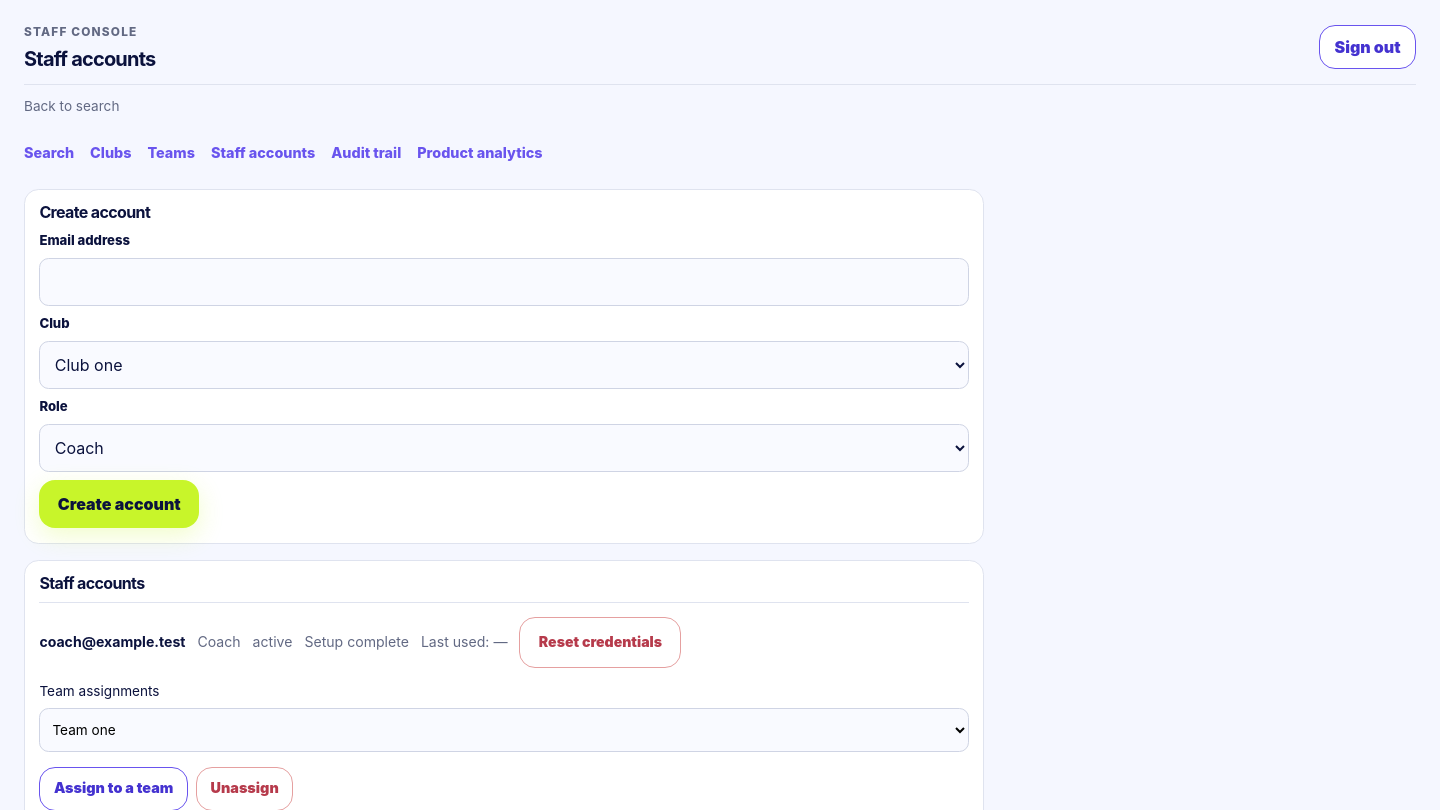
Test: staff account step-up intent › reauthenticates before creating staff and replays the original email, club, and role
The width and height of the screenshot is (1440, 810).
Type "new@example.test" into the field labelled "Email address" at [504, 282], box [39,258,969,306]
Select "Club two" in the dropdown labelled "Club" at [504, 365], box [39,341,969,389]
Select "Club manager" in the dropdown labelled "Role" at [504, 448], box [39,424,969,472]
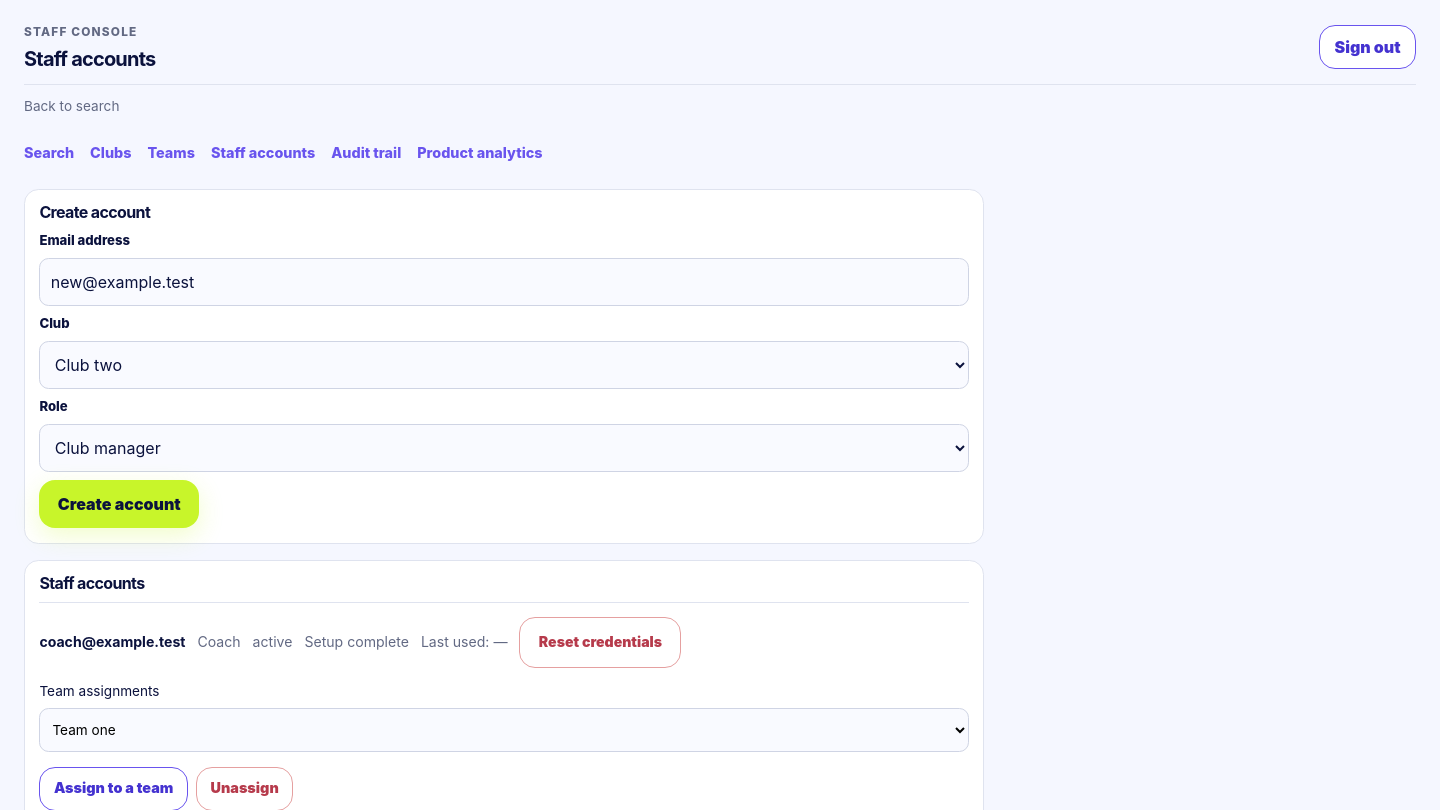
Submit the form from the button "Create account", box [39,480,199,528]
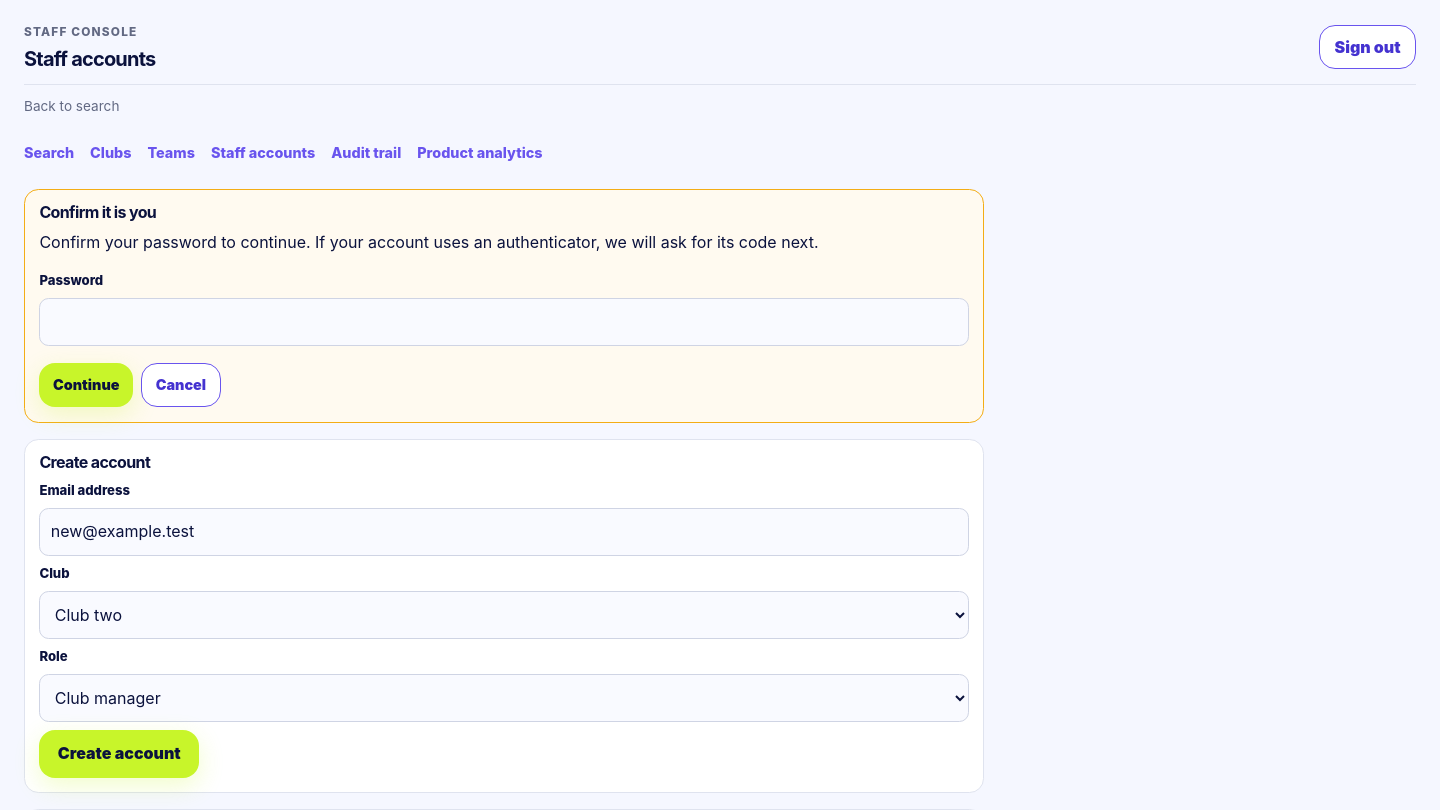
expect the heading "Confirm it is you" is shown: met, box [39,202,156,222]
Type "local-test-password" into the password field labelled "Password" at [504, 322], box [39,298,969,346]
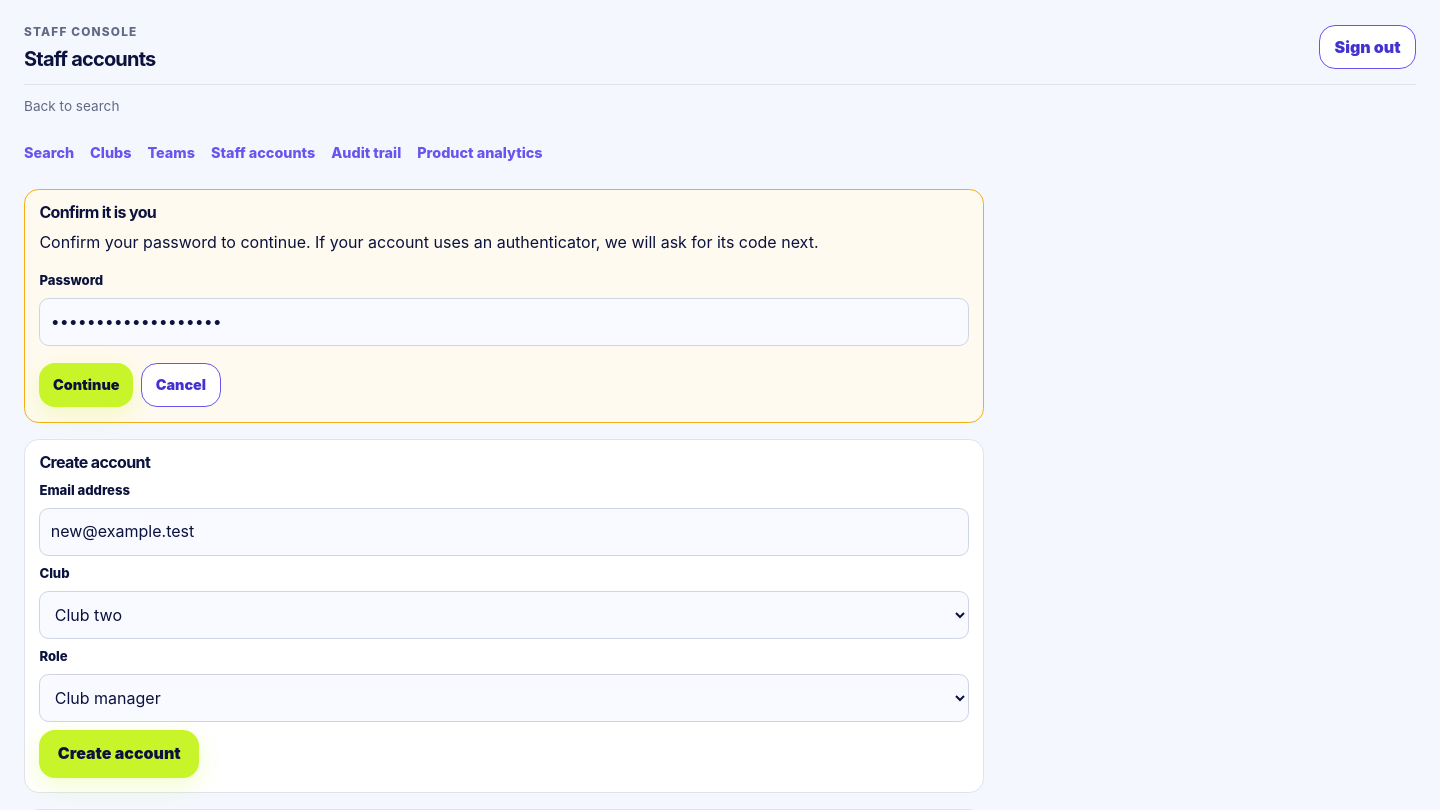
Submit the form from the button "Continue", box [39,363,133,407]
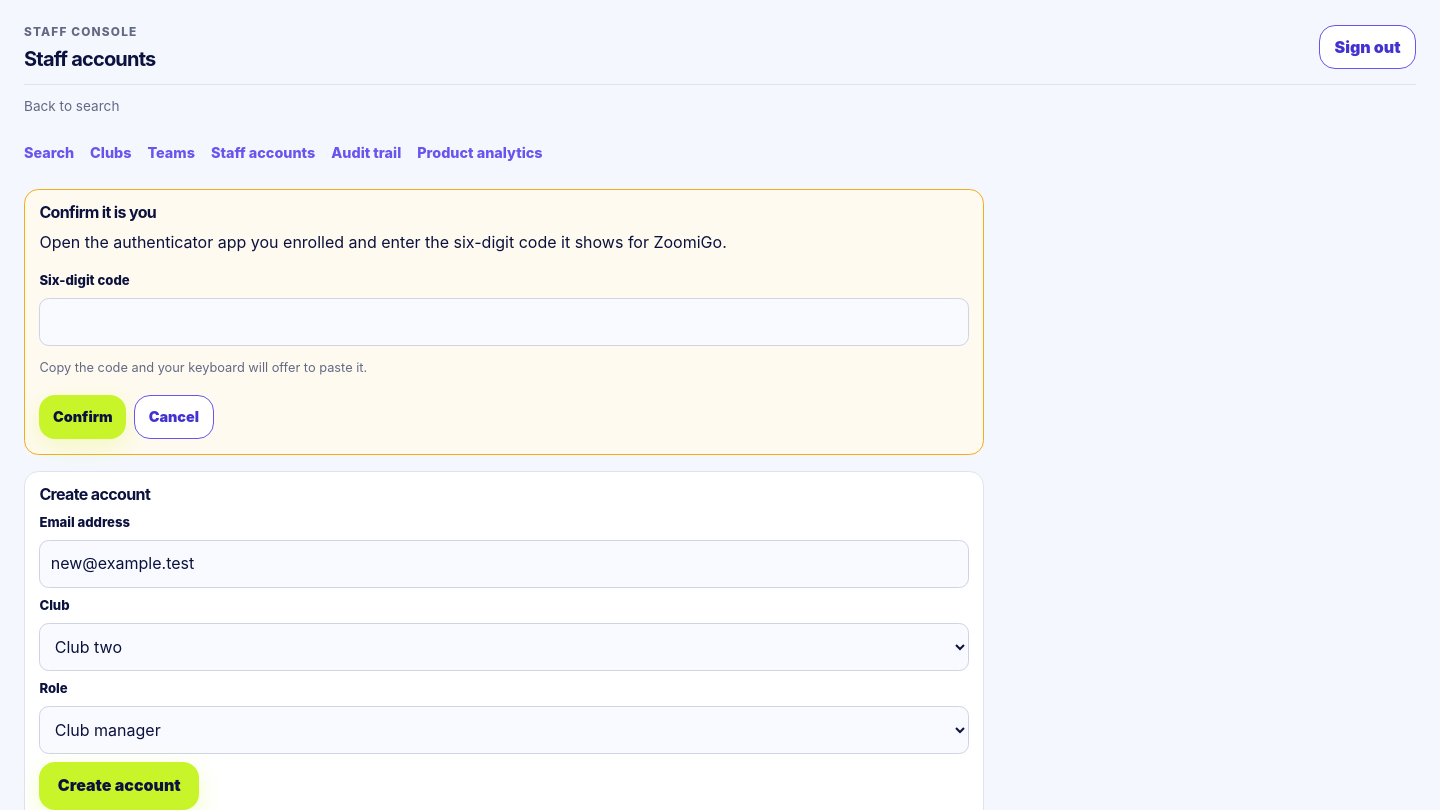
Type "123456" into the field labelled "Six-digit code" at [504, 322], box [39,298,969,346]
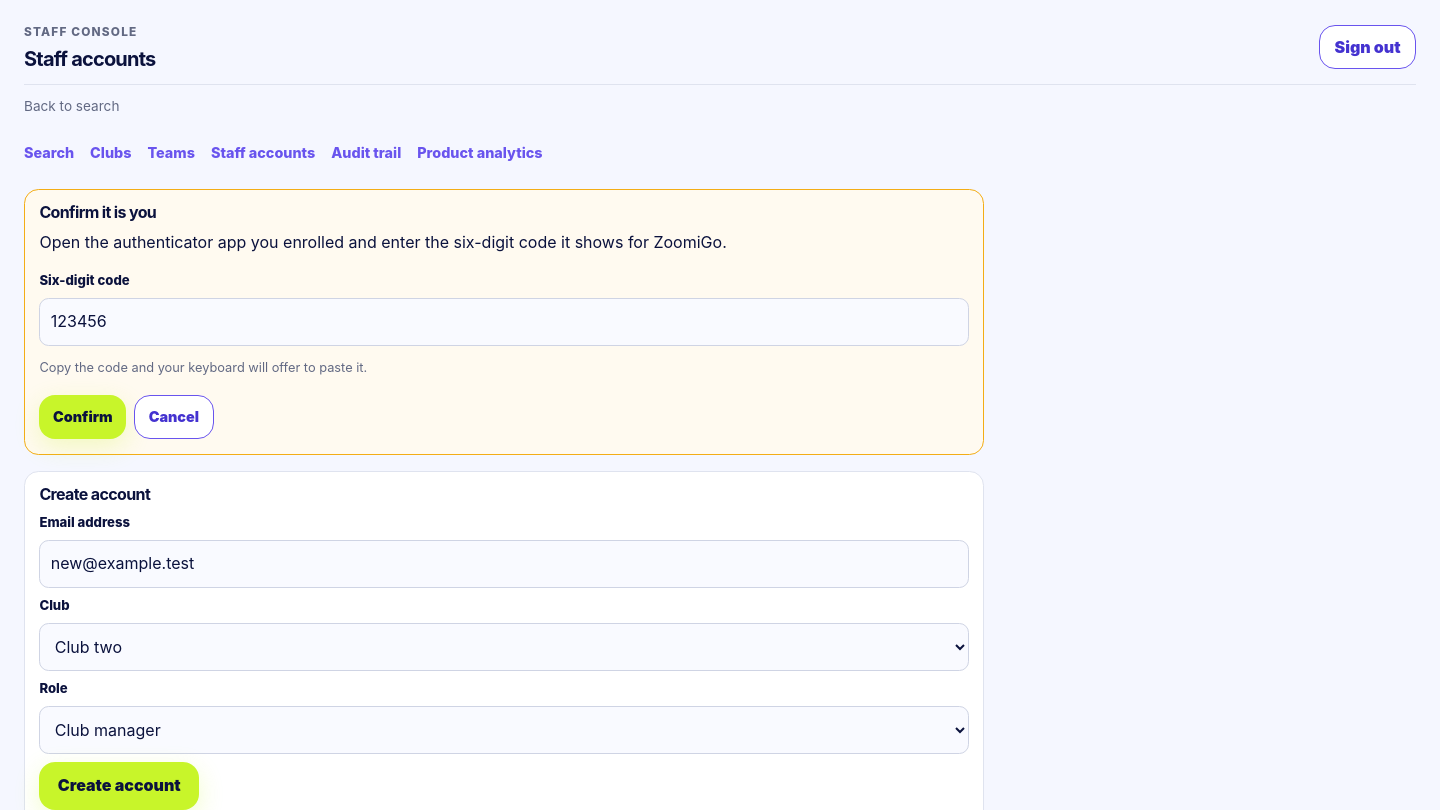
Submit the form from the button "Confirm", box [39,395,126,439]
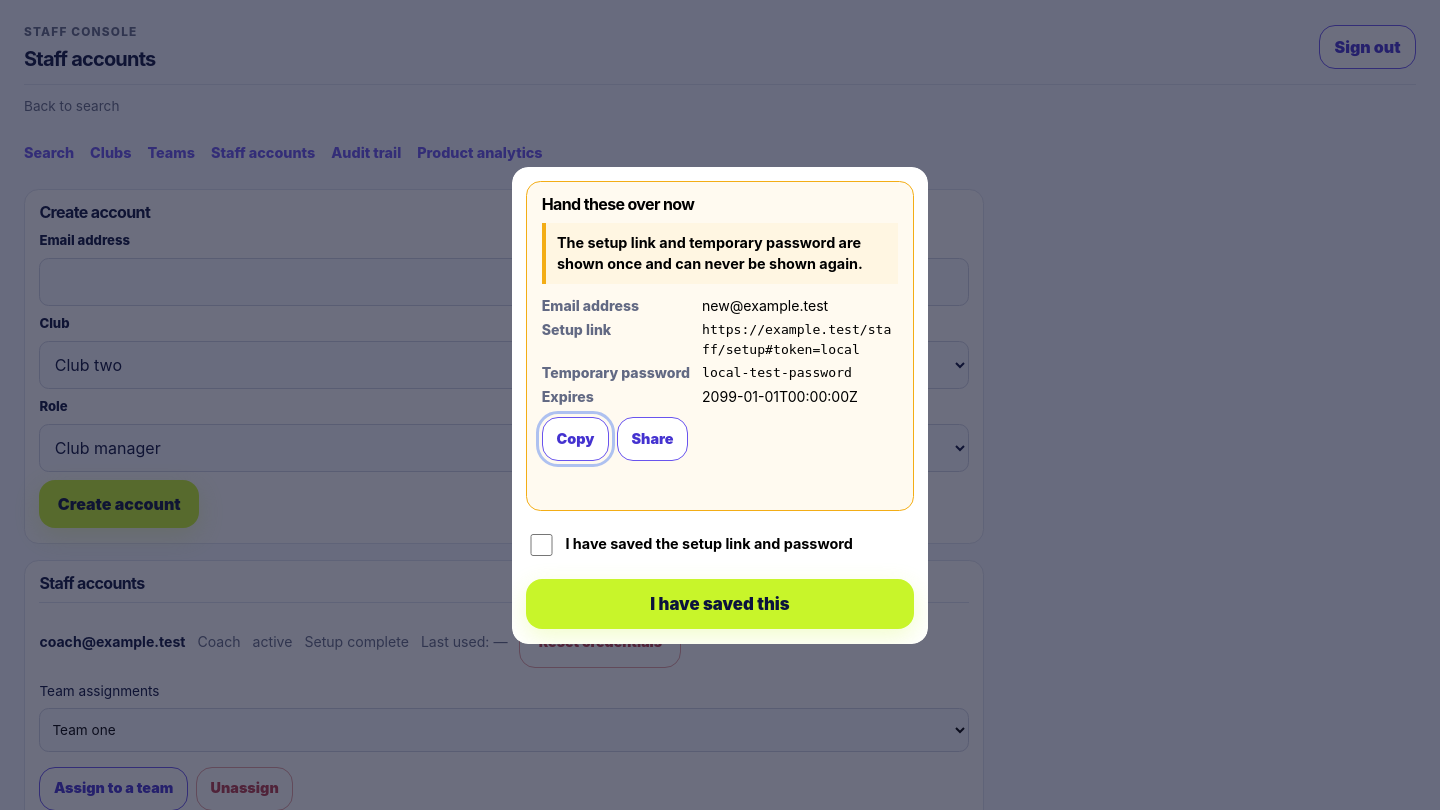
expect the dialog is shown: met, box [512,166,928,644]
